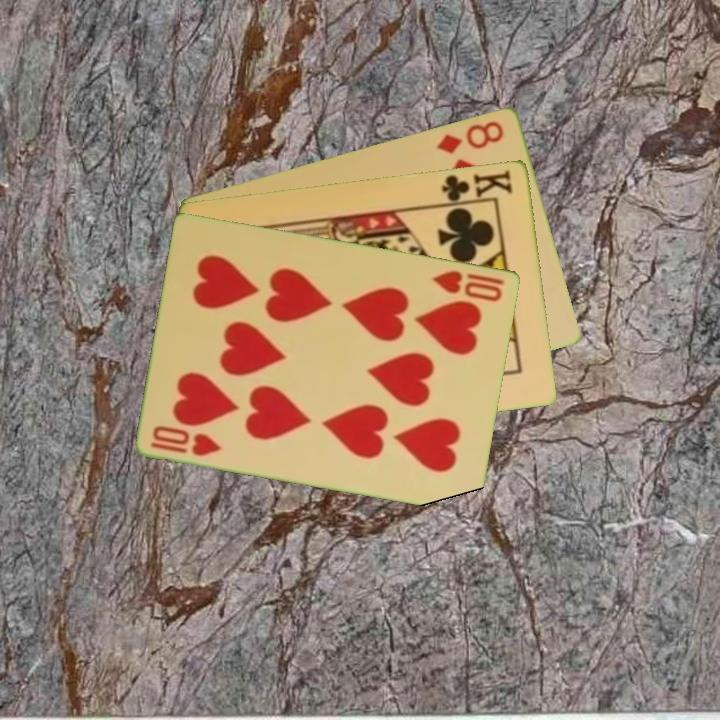10h: (429, 266, 508, 304), (147, 422, 224, 459)
8d: (433, 117, 507, 156)
Kc: (437, 166, 516, 207)
